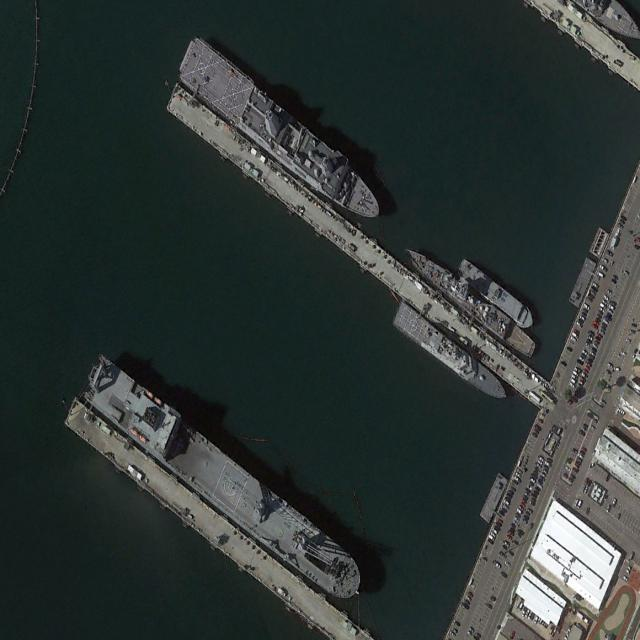Auxiliary Ships: (175, 31, 387, 236)
Frigate: (400, 239, 538, 362)
Other Ship: (79, 347, 369, 613), (392, 299, 509, 409), (456, 254, 537, 332)
